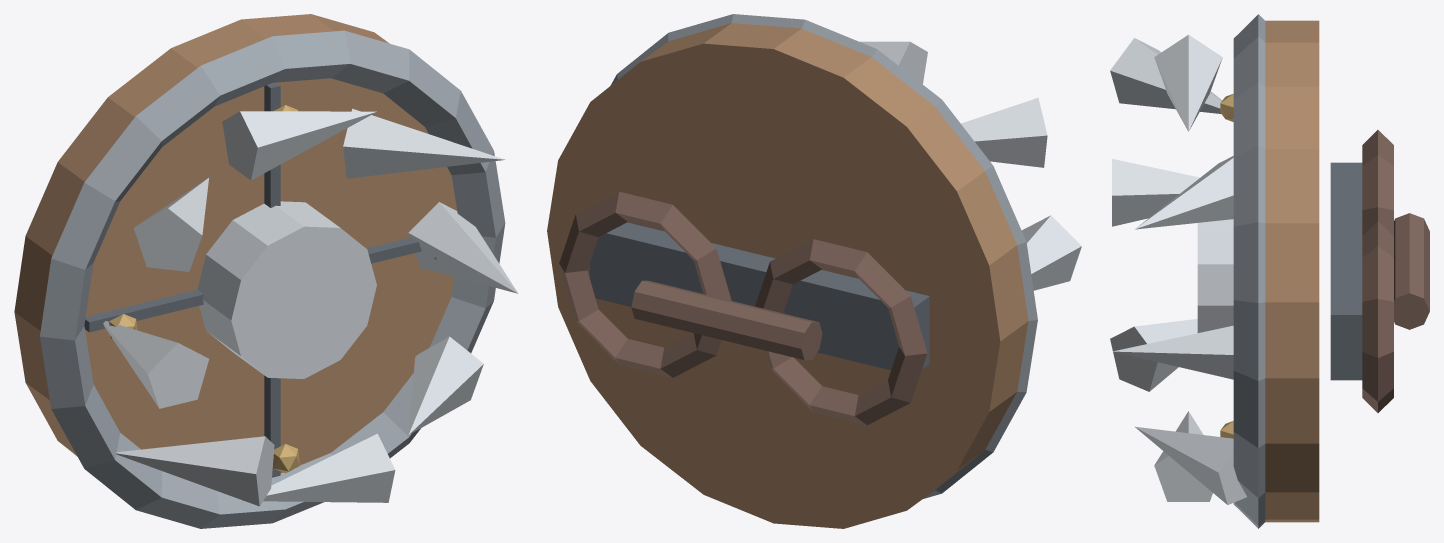
The model's file is spiked_shield.glb.
3 views of the same model, side by side, from view 1: azimuth 30°, elevation 25°; view 2: azimuth 150°, elevation 25°; view 3: azimuth 270°, elevation 25° (orthographic). The views are drawn at different scales.
Visible parts, largest first — view 1: ShieldBody.002, IronRim.002, CentralBoss.002, Spike_5, Spike_2, Spike_1, Spike_6, Spike_0, Spike_4, Spike_7, Spike_3, PlankSeam_1.002 (+2 smaller); view 2: ShieldBody.002, BackReinforcement.002, BackStrap_-0.002, BackStrap_0.002, HandGrip.002, IronRim.002, Spike_3, Spike_4, Spike_2; view 3: ShieldBody.002, IronRim.002, BackReinforcement.002, BackStrap_0.002, CentralBoss.002, HandGrip.002, Spike_7, Spike_2, Spike_4, Spike_1, Spike_0, Spike_3 (+3 smaller).
Part boxes in pixels (x1,y1,x2,y2): ShieldBody.002: (14,14,457,472); IronRim.002: (40,30,505,528); CentralBoss.002: (197,201,376,378); Spike_5: (116,436,274,506); Spike_2: (222,111,376,180); Spike_1: (343,108,505,178); Spike_6: (240,433,395,502); Spike_0: (408,202,518,293); Spike_4: (103,321,209,408); Spike_7: (408,336,483,434); Spike_3: (134,178,208,271); PlankSeam_1.002: (84,238,421,332); ShieldBody.002: (547,23,1028,528); BackReinforcement.002: (589,222,929,370); BackStrap_-0.002: (755,239,927,425); BackStrap_0.002: (559,191,731,377); HandGrip.002: (631,280,822,360); IronRim.002: (610,14,1037,498); Spike_3: (961,98,1047,167); Spike_4: (1021,215,1081,290); Spike_2: (859,41,927,84); ShieldBody.002: (1265,20,1319,522); IronRim.002: (1233,14,1265,528); BackReinforcement.002: (1330,162,1362,380); BackStrap_0.002: (1362,221,1393,412); CentralBoss.002: (1197,219,1233,332); HandGrip.002: (1394,213,1429,329); Spike_7: (1135,426,1246,504); Spike_2: (1154,34,1222,131); Spike_4: (1112,159,1199,226); Spike_1: (1134,156,1233,229); Spike_0: (1112,325,1233,379); Spike_3: (1110,38,1222,113).
Bounding box in the file's own units: 1.15 × 1.15 × 0.709.
